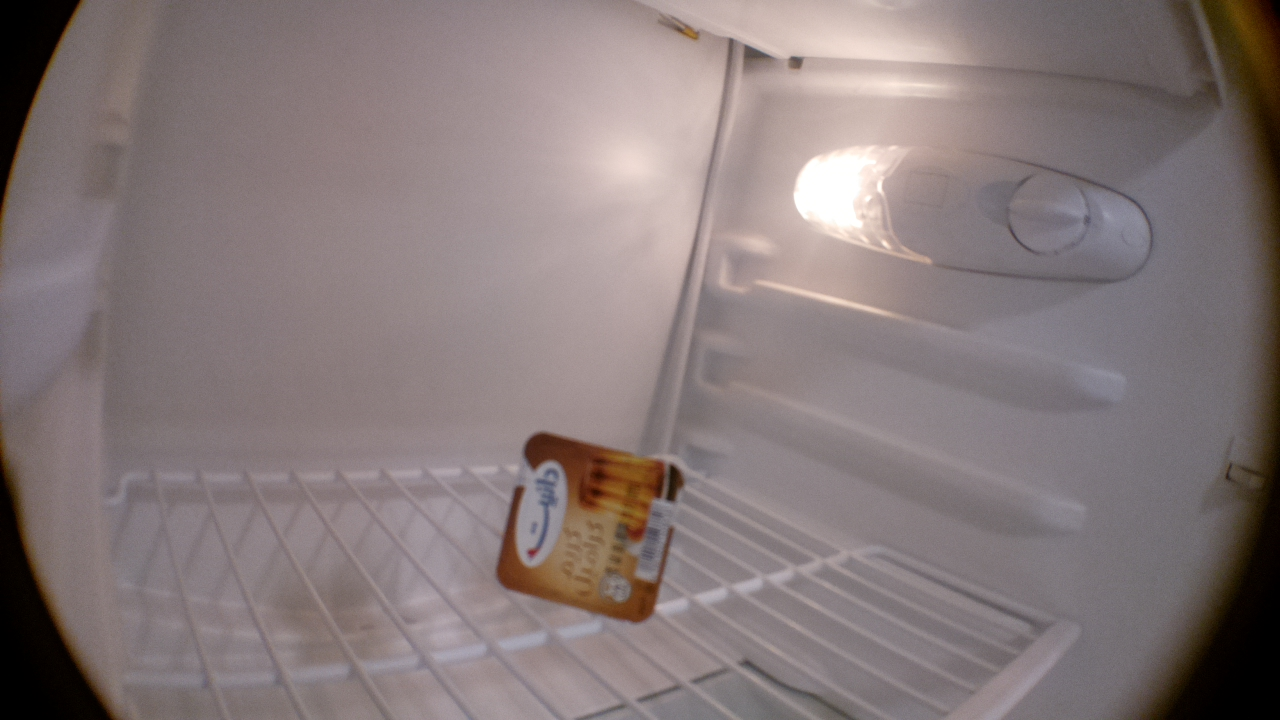caramel: (493, 422, 702, 633)
